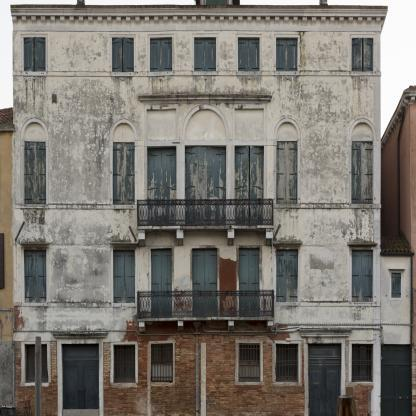Balcony: (137, 291, 274, 318), (137, 200, 273, 226)
Building Outline: (10, 4, 388, 416)
Cornice: (138, 94, 272, 104), (299, 330, 352, 337), (52, 332, 108, 338)
Door: (185, 146, 226, 226), (61, 344, 100, 416), (308, 343, 341, 416), (235, 146, 264, 226), (147, 146, 176, 226), (193, 248, 218, 317), (238, 247, 260, 317), (151, 249, 172, 318)
Facade: (10, 1, 388, 416)
Floor: (13, 94, 380, 231), (13, 230, 380, 322)
Floor Slab: (13, 91, 381, 95), (13, 318, 381, 322), (13, 227, 381, 231)
Ground Floor: (13, 322, 380, 416)
Molding: (11, 15, 385, 26)
Top Floor: (13, 16, 380, 94)
Window: (24, 141, 46, 204), (113, 142, 135, 205), (276, 141, 298, 203), (352, 141, 373, 203), (113, 250, 135, 303), (24, 250, 46, 303), (276, 250, 298, 302), (352, 249, 373, 302), (276, 344, 299, 382), (25, 344, 47, 383), (113, 345, 135, 383), (151, 344, 173, 382), (239, 343, 260, 382), (352, 344, 373, 382), (24, 37, 46, 72), (112, 37, 134, 72), (150, 37, 172, 72), (194, 37, 216, 72), (238, 37, 260, 72), (276, 37, 298, 72), (352, 38, 374, 72)
